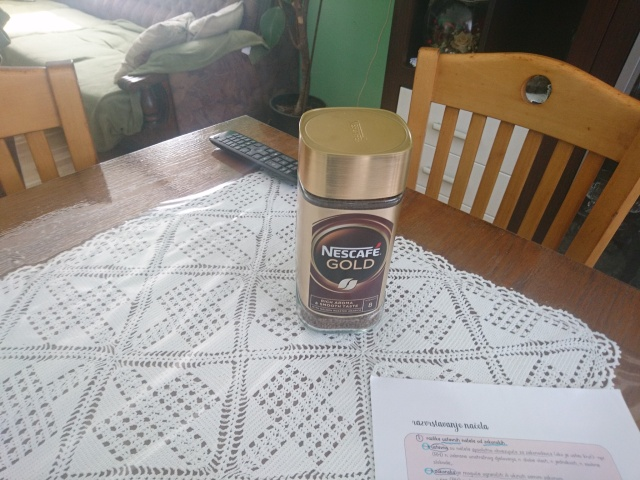Nescafe Gold 225g: (292, 104, 415, 336)
